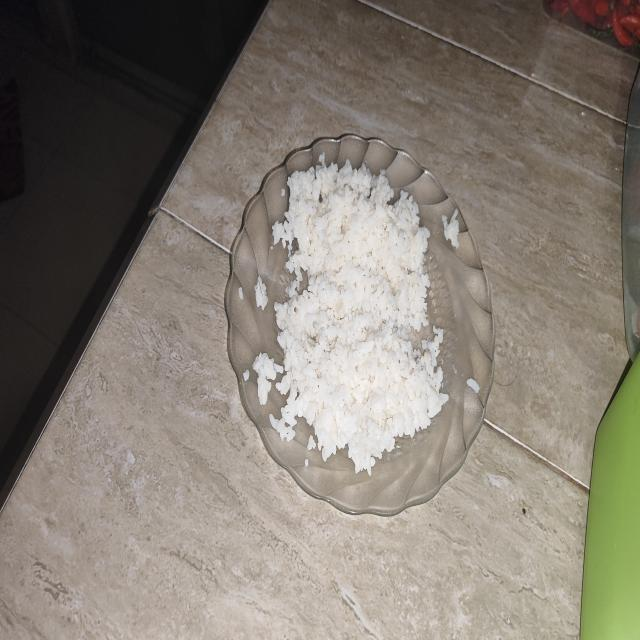nasi_putih: (271, 156, 448, 472)
